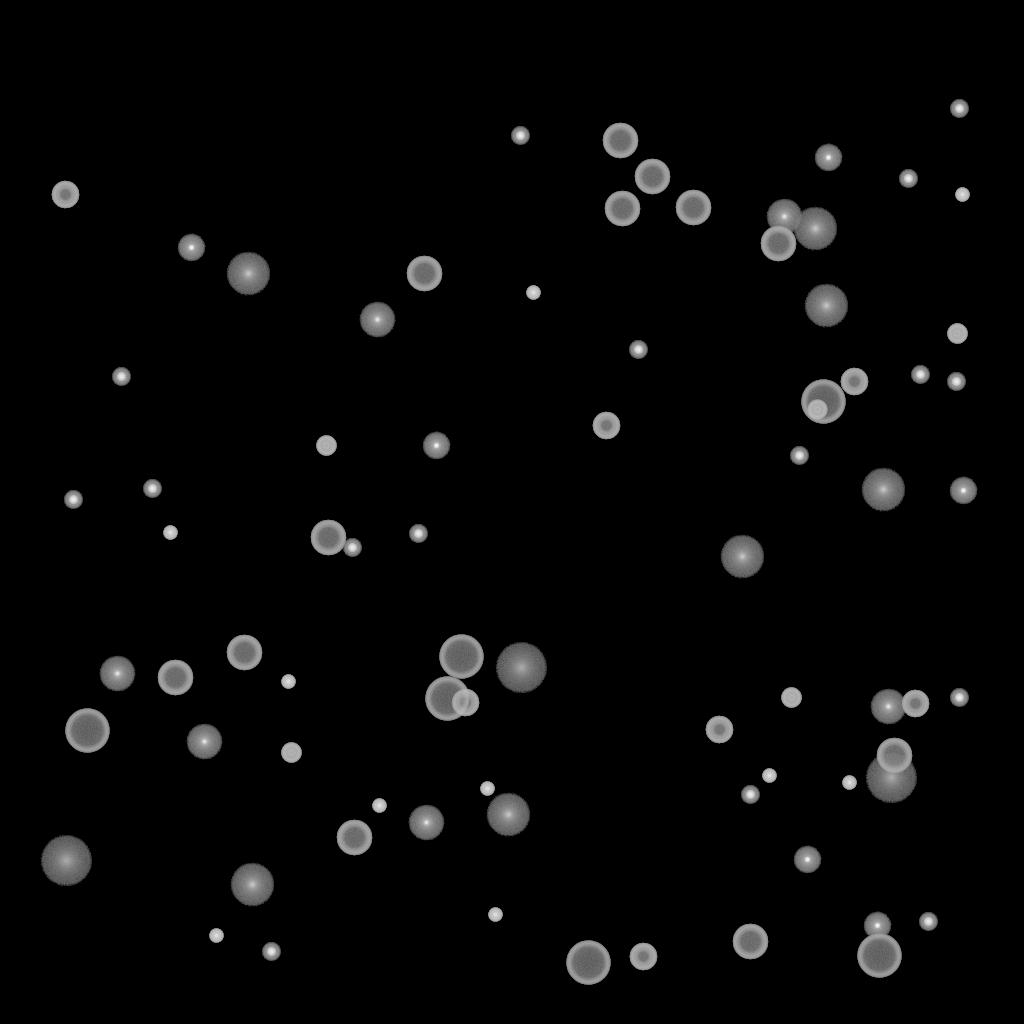depth:-10: (793, 846, 821, 874), (863, 912, 891, 940), (949, 477, 977, 505), (422, 432, 450, 460), (814, 144, 842, 172), (177, 234, 205, 262)
depth:-20: (629, 341, 647, 359), (409, 525, 427, 543), (947, 373, 965, 391), (950, 100, 968, 118), (112, 368, 130, 386), (511, 127, 529, 145), (911, 366, 929, 384), (790, 447, 808, 465), (143, 480, 161, 498), (343, 539, 361, 557), (64, 491, 82, 509), (950, 689, 968, 707), (919, 913, 937, 931), (262, 943, 280, 961), (899, 170, 917, 188), (741, 786, 759, 804)
depth:-30: (488, 908, 502, 922), (372, 799, 386, 813), (762, 769, 776, 783), (281, 675, 295, 689), (955, 188, 969, 202), (526, 286, 540, 300), (842, 776, 856, 790), (209, 929, 223, 943), (163, 526, 177, 540), (480, 782, 494, 796)
depth:-40: (807, 400, 827, 420), (316, 436, 336, 456), (781, 688, 801, 708), (281, 743, 301, 763), (947, 324, 967, 344)
depth:-50: (901, 690, 929, 718), (629, 943, 657, 971), (592, 412, 620, 440), (451, 689, 479, 717), (840, 368, 868, 396), (705, 716, 733, 744), (51, 181, 79, 209)
depth:-60: (602, 123, 638, 159), (604, 191, 640, 227), (157, 660, 193, 696), (732, 924, 768, 960), (760, 226, 796, 262), (675, 190, 711, 226), (876, 738, 912, 774), (634, 159, 670, 195), (310, 520, 346, 556), (406, 256, 442, 292), (226, 635, 262, 671), (336, 820, 372, 856)
depth:-70: (439, 635, 483, 679), (65, 709, 109, 753), (801, 380, 845, 424), (425, 677, 469, 721), (857, 934, 901, 978), (566, 941, 610, 985)
depth:0: (359, 302, 395, 338), (99, 656, 135, 692), (766, 199, 802, 235), (186, 724, 222, 760), (870, 689, 906, 725), (408, 805, 444, 841)
depth:10: (226, 252, 270, 296), (486, 793, 530, 837), (720, 535, 764, 579), (861, 468, 905, 512), (804, 284, 848, 328), (230, 863, 274, 907), (793, 207, 837, 251)
depth:20: (865, 753, 917, 803), (40, 836, 92, 886), (495, 643, 547, 693)
